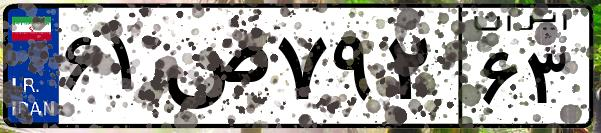1: (110, 28, 158, 98)
2: (385, 28, 445, 110)
3: (525, 38, 570, 115)
6: (57, 26, 110, 100), (475, 38, 525, 113)
7: (270, 28, 330, 110)
9: (330, 28, 385, 110)
ص: (158, 20, 270, 120)
